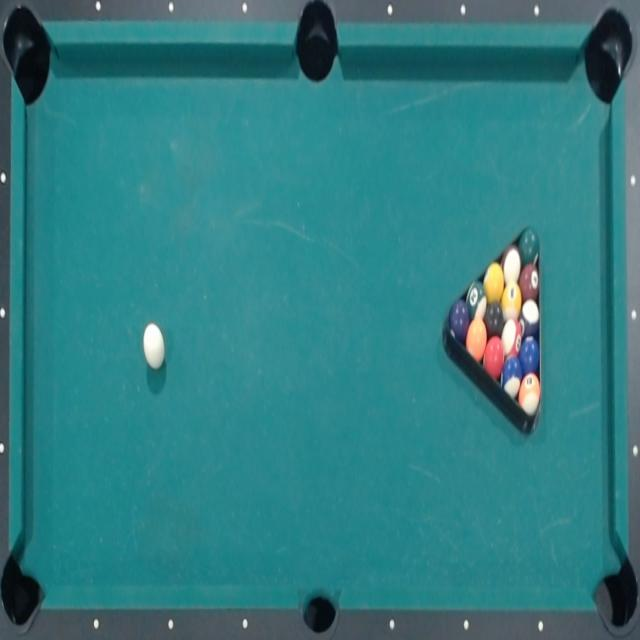black_8ball: (483, 299, 506, 344)
blue_solid: (517, 330, 543, 378)
blue_stripe: (500, 357, 523, 399)
cue_ball: (140, 319, 168, 376)
green_solid: (519, 226, 541, 268)
green_stripe: (464, 278, 486, 320)
maroon_solid: (517, 258, 542, 304)
maroon_stripe: (501, 246, 522, 286)
orange_solid: (466, 319, 488, 362)
orange_stripe: (518, 375, 542, 414)
purple_solid: (445, 298, 470, 344)
purple_stripe: (519, 295, 541, 340)
red_solid: (482, 337, 505, 380)
red_stripe: (500, 318, 523, 356)
yellow_solid: (483, 262, 504, 301)
yellow_stripe: (500, 282, 524, 320)
